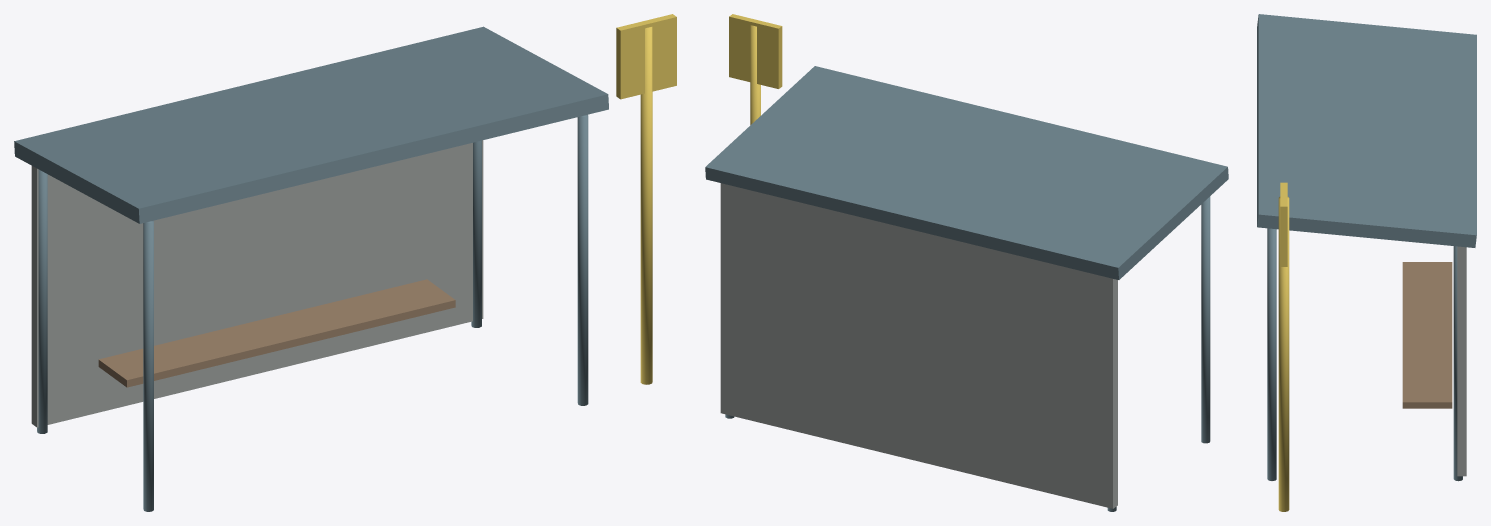
File: bus_stop_90s.glb
The picture shows the model from 3 angles, left to right: view 1: azimuth 30°, elevation 25°; view 2: azimuth 150°, elevation 25°; view 3: azimuth 270°, elevation 25°; orthographic projection. The views are drawn at different scales.
Visible parts, largest first — view 1: BackWall, Roof, BenchSeat, TimetablePole, TimetableHead, PostF_1.85, PostF_-1.85, PostB_-1.85, PostB_1.85; view 2: BackWall, Roof, TimetableHead, PostF_-1.85, TimetablePole; view 3: Roof, BenchSeat, TimetablePole, PostF_1.85, BackWall, PostB_1.85, TimetableHead.
Part boxes in pixels (box(x1,y1,x2,y2)): BackWall: box(31, 140, 483, 427); Roof: box(14, 26, 608, 223); BenchSeat: box(98, 279, 455, 387); TimetablePole: box(640, 27, 652, 384); TimetableHead: box(616, 14, 676, 99); PostF_1.85: box(577, 114, 588, 405); PostF_-1.85: box(143, 220, 153, 511); PostB_-1.85: box(37, 169, 47, 433); PostB_1.85: box(471, 140, 481, 327); BackWall: box(720, 183, 1117, 508); Roof: box(705, 66, 1228, 279); TimetableHead: box(729, 14, 782, 88); PostF_-1.85: box(1201, 196, 1210, 443); TimetablePole: box(750, 25, 760, 124); Roof: box(1257, 14, 1476, 247); BenchSeat: box(1402, 262, 1452, 408); TimetablePole: box(1278, 197, 1289, 511); PostF_1.85: box(1267, 228, 1276, 480); BackWall: box(1457, 246, 1466, 476); PostB_1.85: box(1453, 246, 1462, 481); TimetableHead: box(1280, 182, 1287, 266).
Size of the model in its own units: 4.69 by 2.93 by 1.85.
